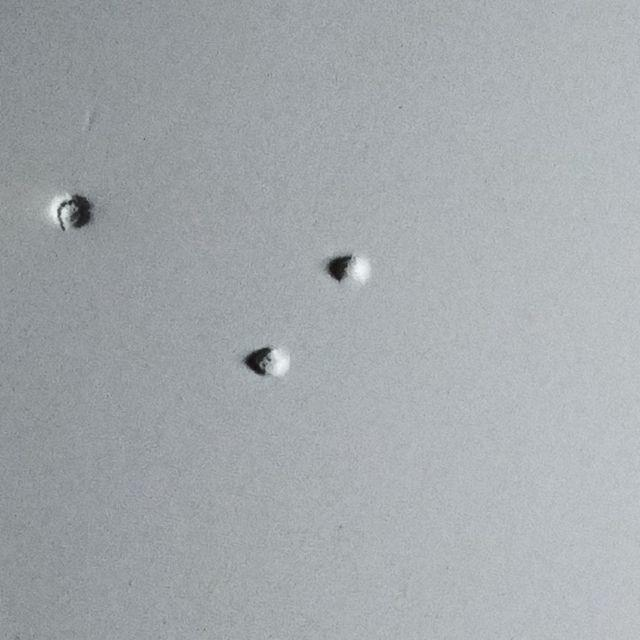A: (329, 252, 409, 378)
capital: (211, 253, 291, 379)
